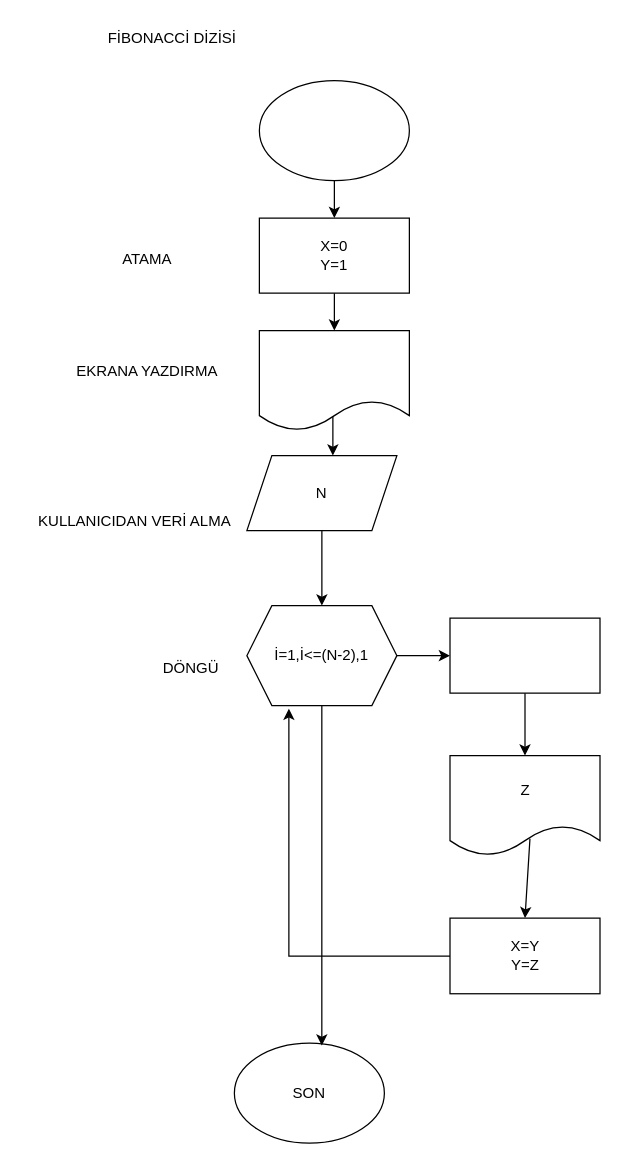
Some shapes in this 621 by 1165 pixel diagram are drawn without their labels. The shapes that lost their labels are listed below. From the top down, each one's centre as x and y in pixels, then its label:
At [333,130]: "BAŞLA".
At [333,380]: "X,Y".
At [524,655]: "Z=X+Y".
